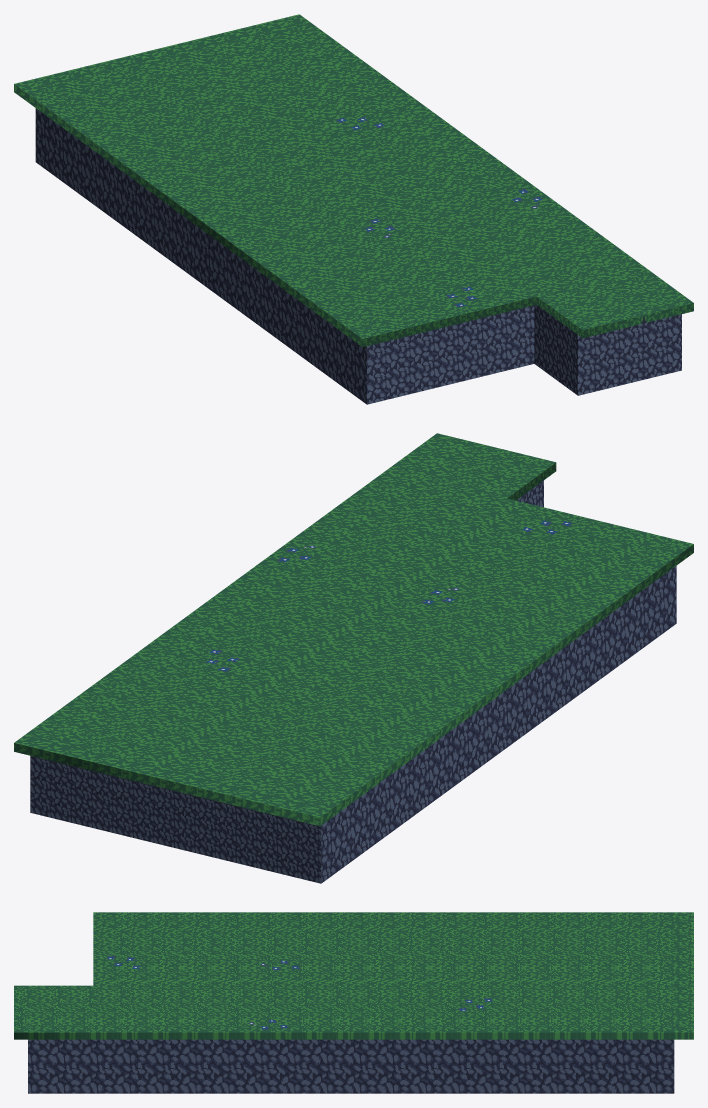
File: Chao5.fbx
3 renders of one model, top to bottom at view 1: azimuth 30°, elevation 25°; view 2: azimuth 150°, elevation 25°; view 3: azimuth 270°, elevation 25°, orthographic. The views are drawn at different scales.
Parts seen in each view (by area): view 1: Chao5; view 2: Chao5; view 3: Chao5.
Boxes of the visible parts, box(x1,y1,x2,y2) form: Chao5: box(14, 14, 693, 404); Chao5: box(14, 433, 693, 883); Chao5: box(14, 912, 693, 1093).
Size of the model in its own units: 3652 by 8741 by 887.
